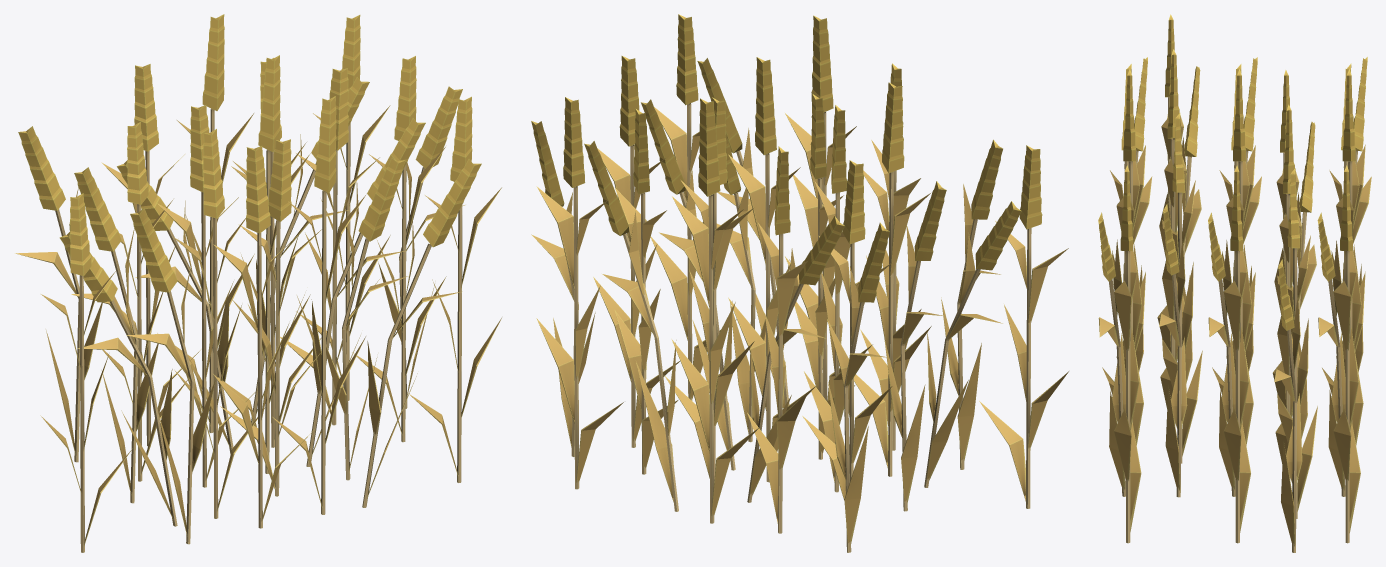
File: FieldOfWheat.fbx
The picture shows the model from 3 angles, left to right: view 1: azimuth 30°, elevation 25°; view 2: azimuth 150°, elevation 25°; view 3: azimuth 270°, elevation 25°; orthographic projection. The views are drawn at different scales.
Parts seen in each view (by area): view 1: FieldOfWheat(1); view 2: FieldOfWheat(1); view 3: FieldOfWheat(1).
Part boxes in pixels (x1,y1,x2,y2): FieldOfWheat(1): (15, 14, 501, 552); FieldOfWheat(1): (531, 14, 1068, 552); FieldOfWheat(1): (1098, 14, 1371, 552).
Size of the model in its own units: 1.62 by 0.8159 by 1.34.
